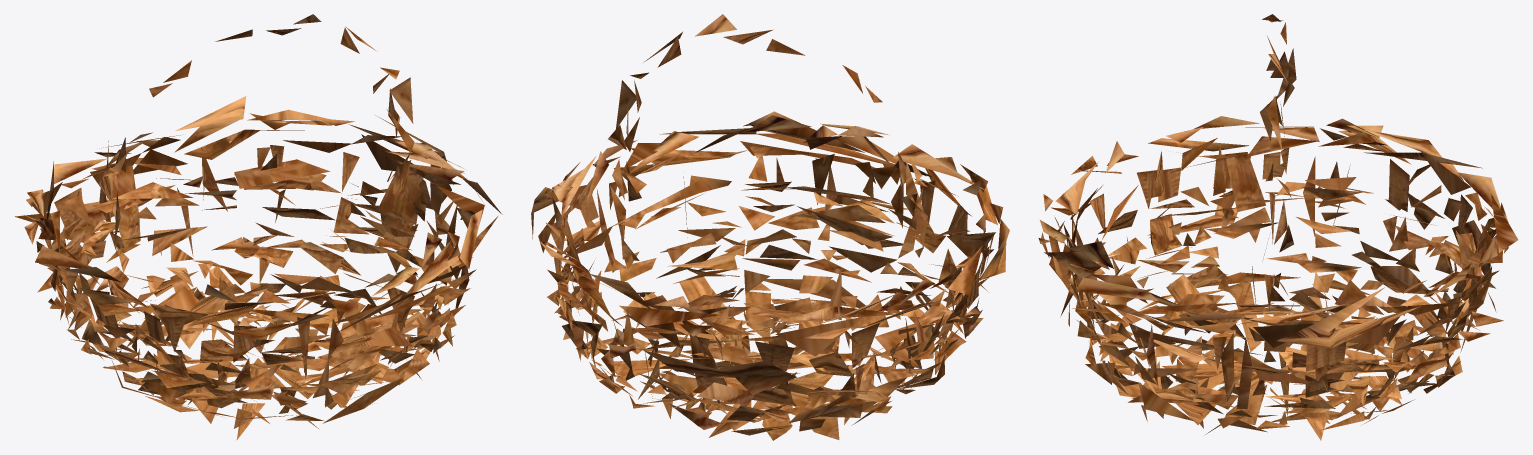
The model's file is cesta.glb.
The picture shows the model from 3 angles, left to right: view 1: azimuth 30°, elevation 25°; view 2: azimuth 150°, elevation 25°; view 3: azimuth 270°, elevation 25°; orthographic projection. The views are drawn at different scales.
Visible parts, largest first — view 1: Mesh_0; view 2: Mesh_0; view 3: Mesh_0.
Part boxes in pixels (bbox=[...]): Mesh_0: bbox=[15, 14, 502, 440]; Mesh_0: bbox=[531, 14, 1009, 440]; Mesh_0: bbox=[1038, 14, 1518, 440].
Bounding box in the file's own units: 1.94 × 1.58 × 1.89.
1 material, 1 textured.
